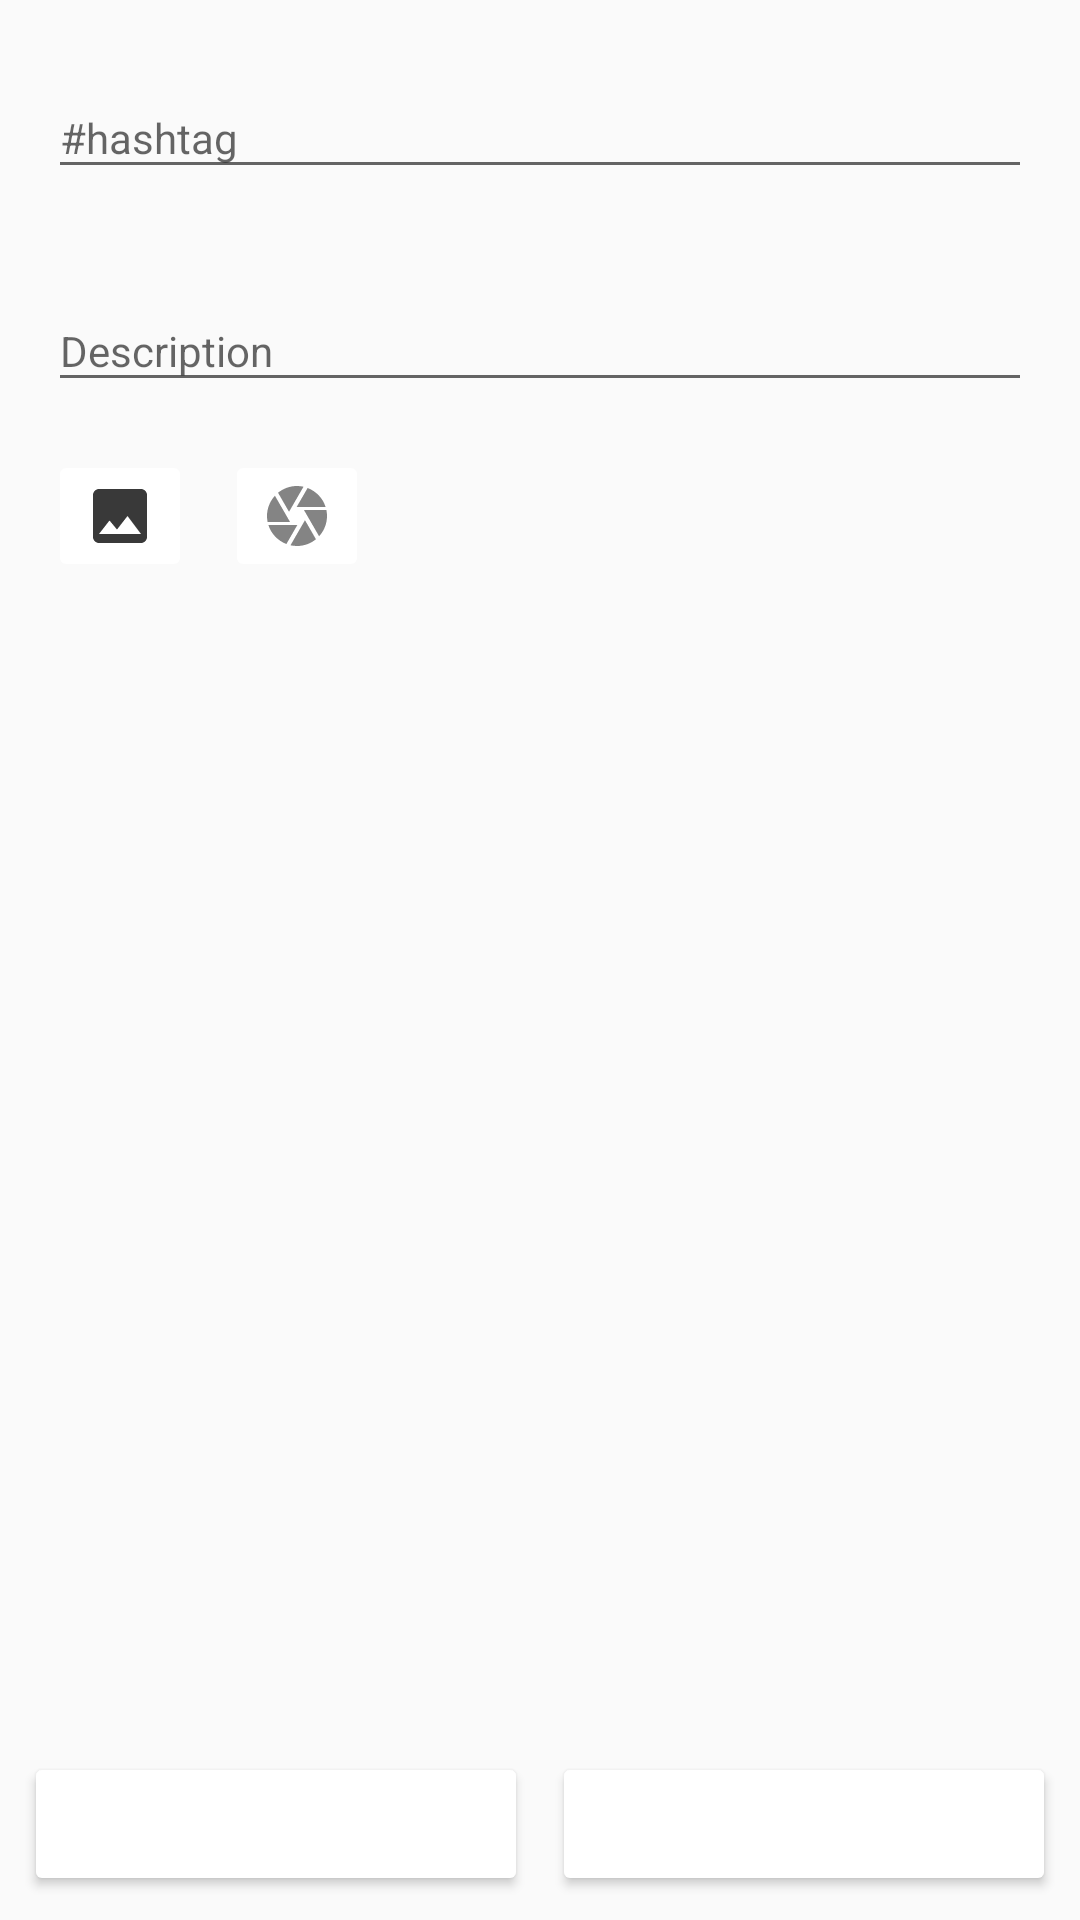

Named icons in this screenshot (1080w x 1920h) and their centers, (x=x, y=y):
Add Picture Button: (x=120, y=516)
Take Picture Button: (x=297, y=516)
